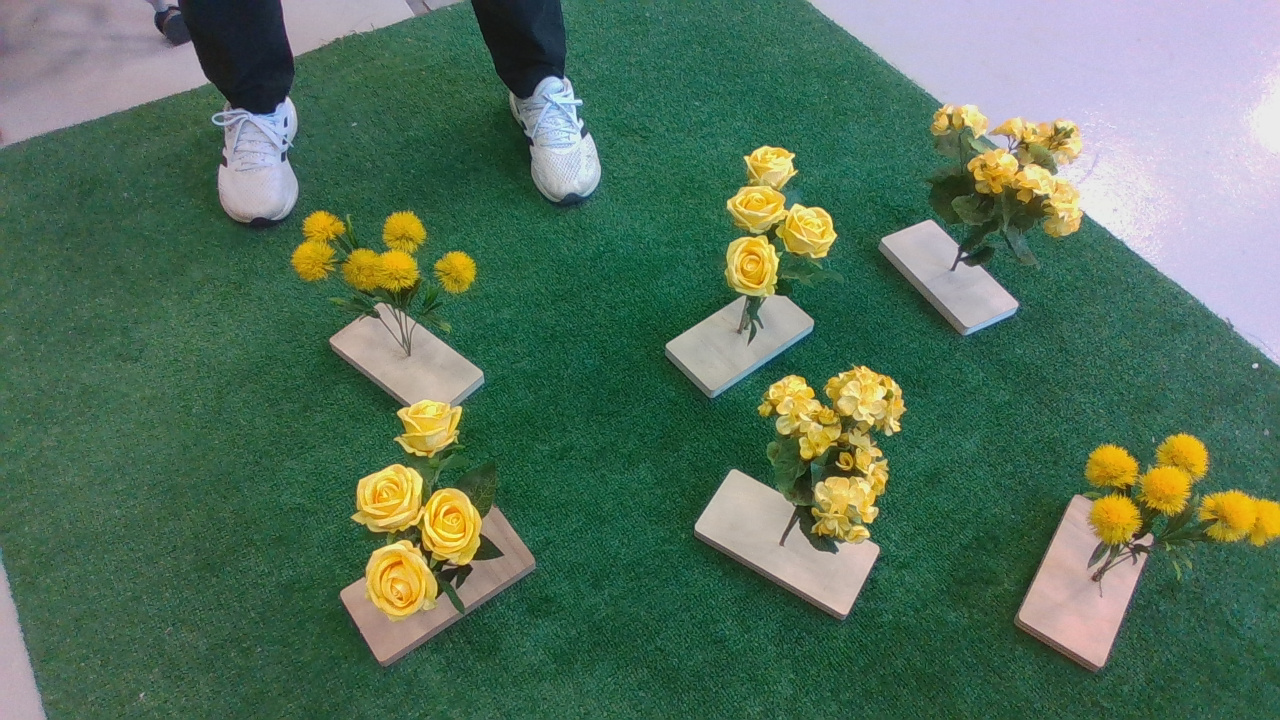dandelion: (1071, 430, 1280, 587), (291, 214, 495, 335)
geranium: (758, 365, 915, 561), (930, 96, 1093, 279)
rose: (346, 403, 523, 628), (721, 134, 852, 325)
